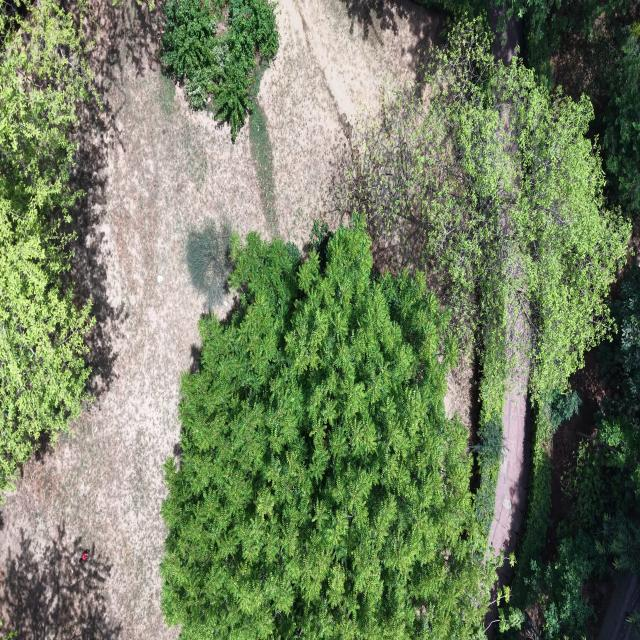DRY_AREA: (0, 0, 441, 639), (489, 304, 531, 588), (489, 304, 530, 555), (489, 371, 530, 557), (598, 574, 639, 639)
VEGETATION_TREE: (161, 0, 639, 639), (352, 28, 633, 639), (347, 19, 630, 523), (161, 216, 494, 639), (348, 21, 630, 394), (514, 267, 639, 639), (514, 270, 639, 639), (0, 0, 92, 492), (519, 267, 639, 638), (503, 0, 639, 215), (512, 0, 639, 216), (514, 440, 637, 639), (514, 392, 603, 639), (417, 0, 638, 88), (579, 267, 639, 573), (162, 0, 278, 139), (515, 392, 579, 604), (507, 0, 637, 87), (506, 0, 633, 87), (474, 293, 514, 536), (557, 439, 635, 551), (526, 532, 604, 639), (514, 404, 554, 605), (599, 267, 639, 455), (604, 20, 639, 216), (474, 343, 505, 535), (249, 61, 277, 234), (185, 220, 231, 309), (597, 512, 639, 574), (416, 0, 487, 19), (6, 631, 17, 639)
